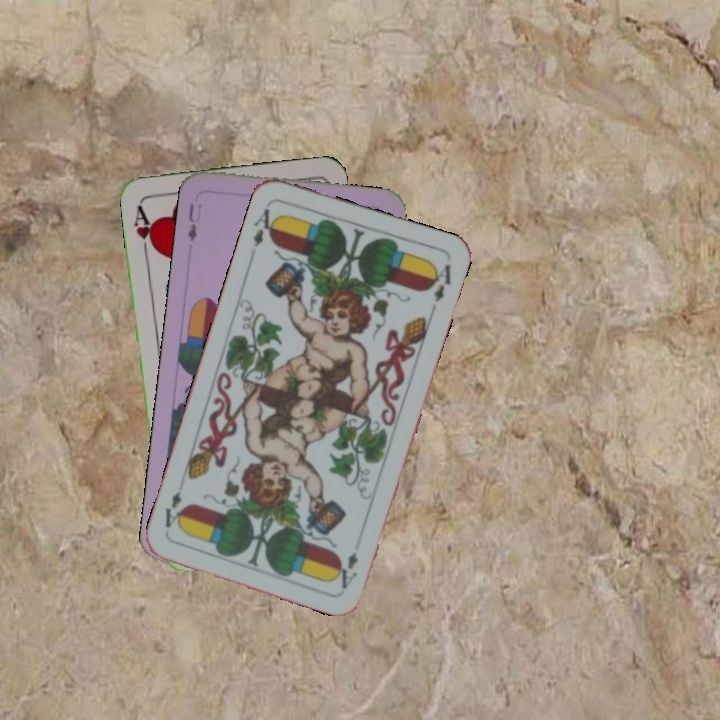EA: (248, 201, 281, 251), (332, 548, 361, 592)
EU: (183, 199, 202, 244)
HA: (129, 201, 159, 258)
